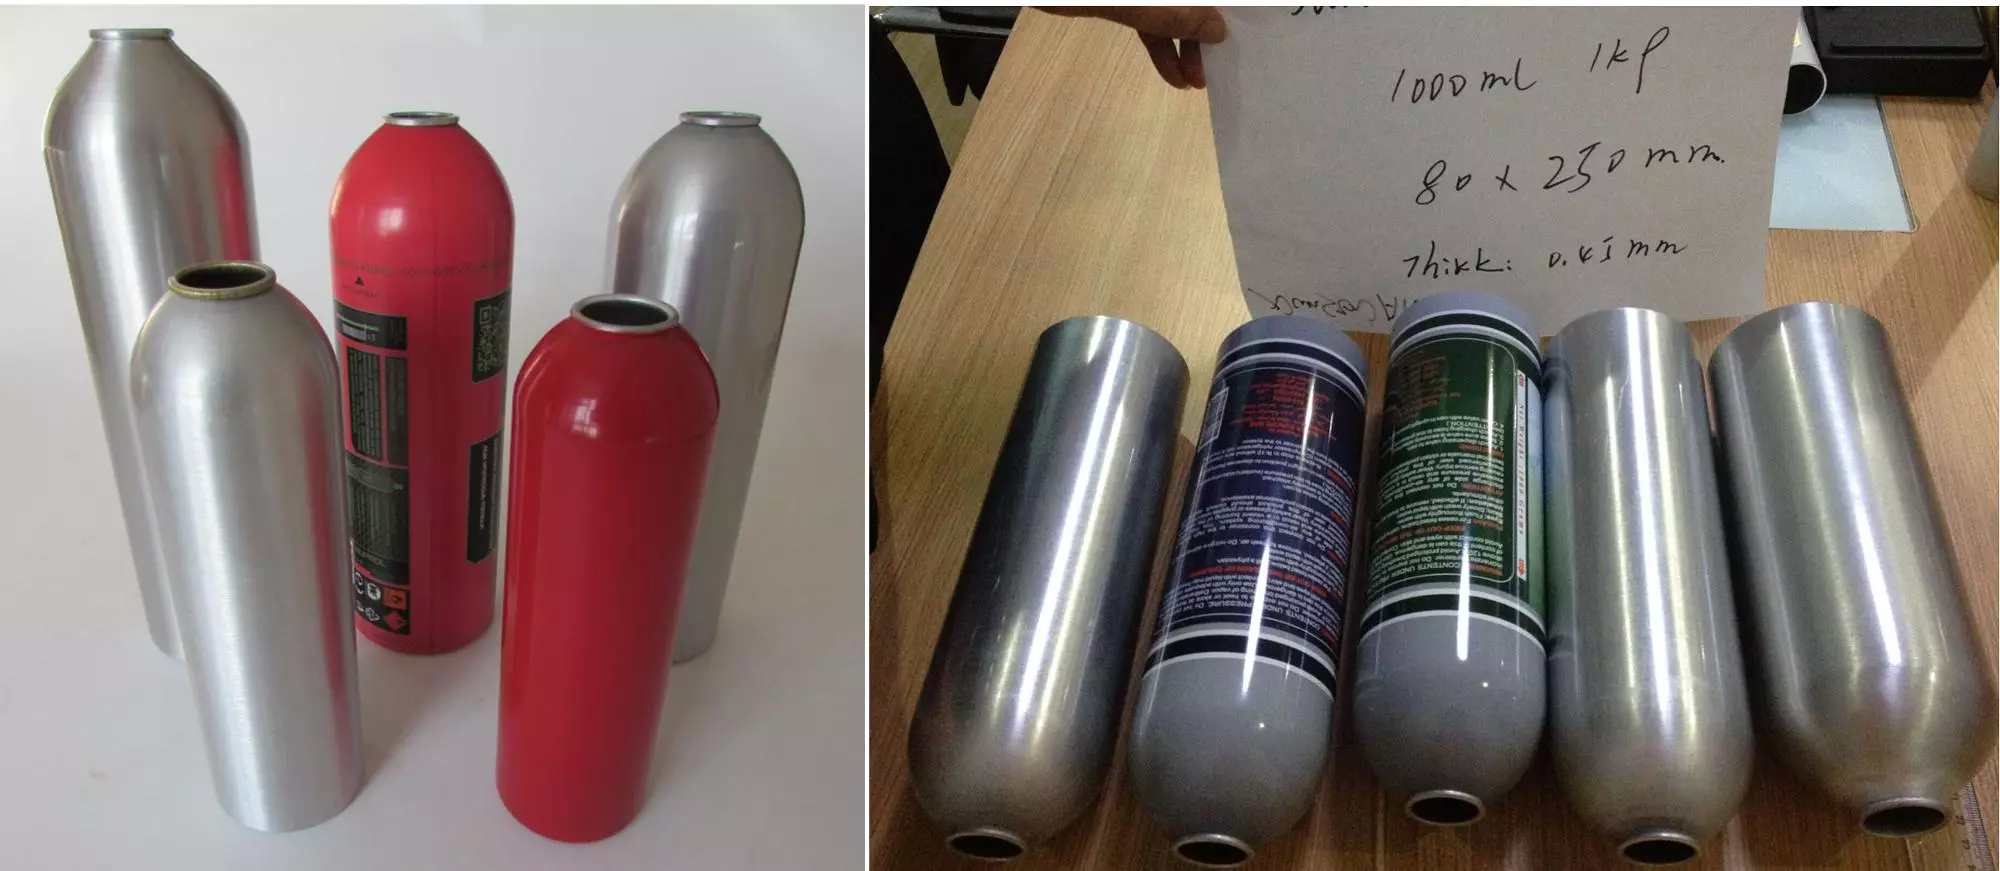Aerosol_cans: (901, 307, 1194, 863), (1707, 295, 2000, 843), (121, 254, 372, 837), (1117, 312, 1378, 871), (494, 278, 727, 848), (1541, 307, 1761, 871), (603, 78, 810, 672), (1347, 302, 1559, 835), (321, 102, 517, 658)
